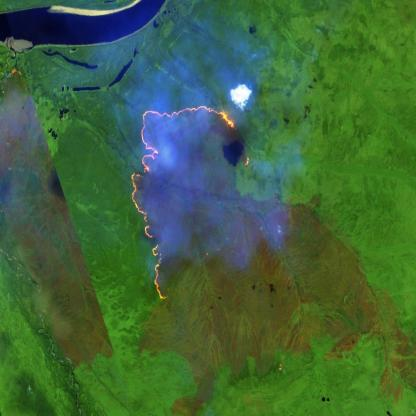fire: (127, 98, 255, 305)
